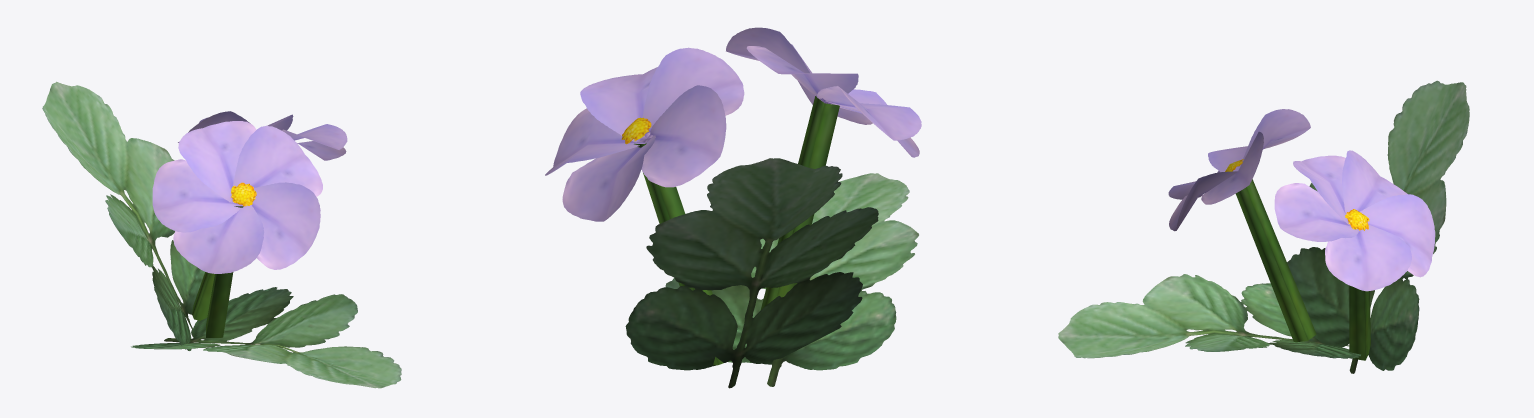
The model's file is indigof1.fbx.
3 views of the same model, side by side, from view 1: azimuth 30°, elevation 25°; view 2: azimuth 150°, elevation 25°; view 3: azimuth 270°, elevation 25° (orthographic). The views are drawn at different scales.
Parts seen in each view (by area): view 1: indigof01; view 2: indigof01; view 3: indigof01.
Part boxes in pixels (x1,y1,x2,y2): indigof01: (42, 81, 401, 388); indigof01: (545, 27, 921, 388); indigof01: (1058, 80, 1469, 373).
Bounding box in the file's own units: 19.31 × 16.45 × 25.77.
